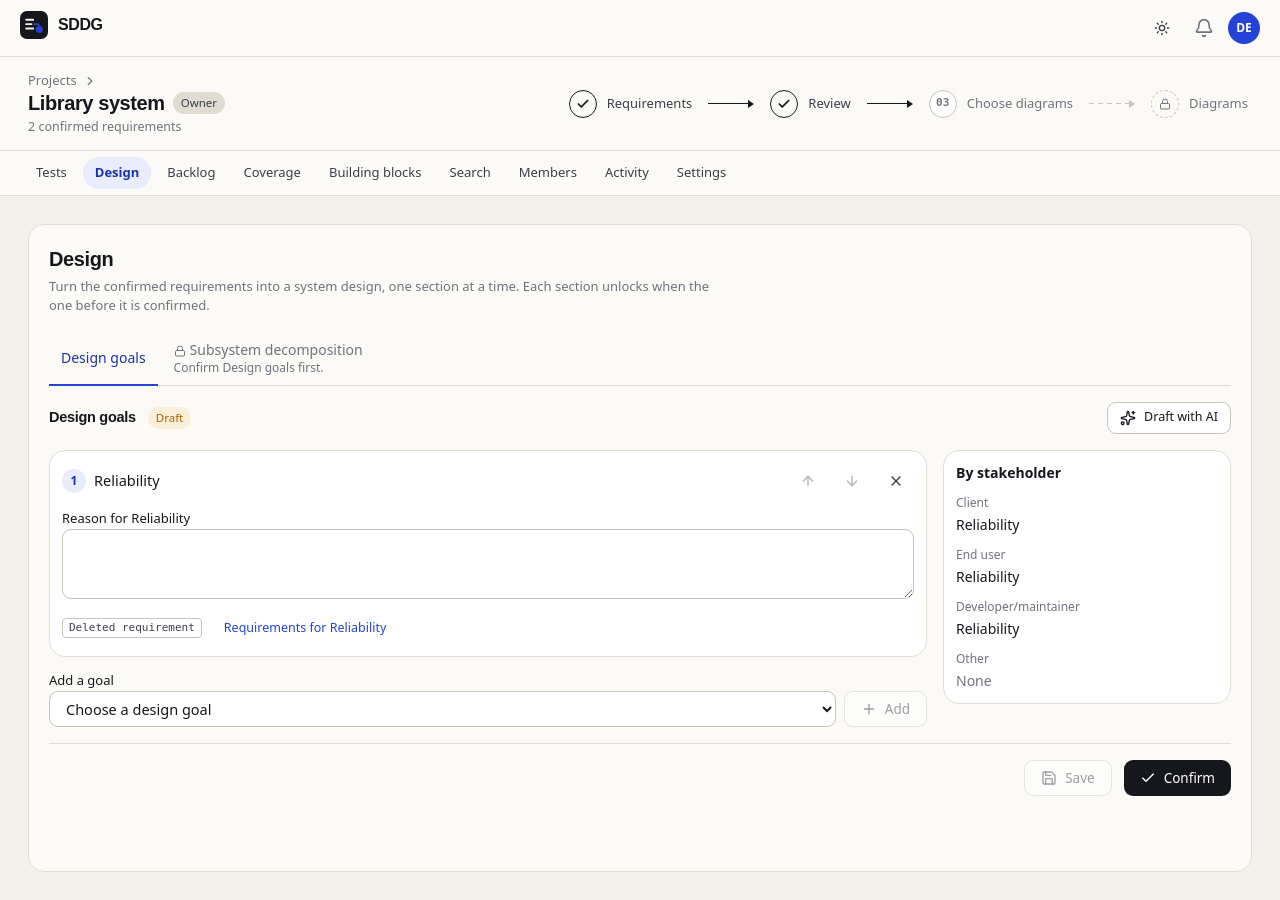
Test: Subsystem decomposition › is locked with the reason until the design goals are confirmed, then opens
The width and height of the screenshot is (1280, 900).
Expected: the tab "Subsystem decomposition Confirm Design goals first." is disabled, [162, 332, 375, 386]
Expected: the text "Confirm Design goals first." is shown, [174, 359, 324, 376]
Step 1. Click the button "Confirm" → (1177,778), box [1124, 760, 1231, 796]
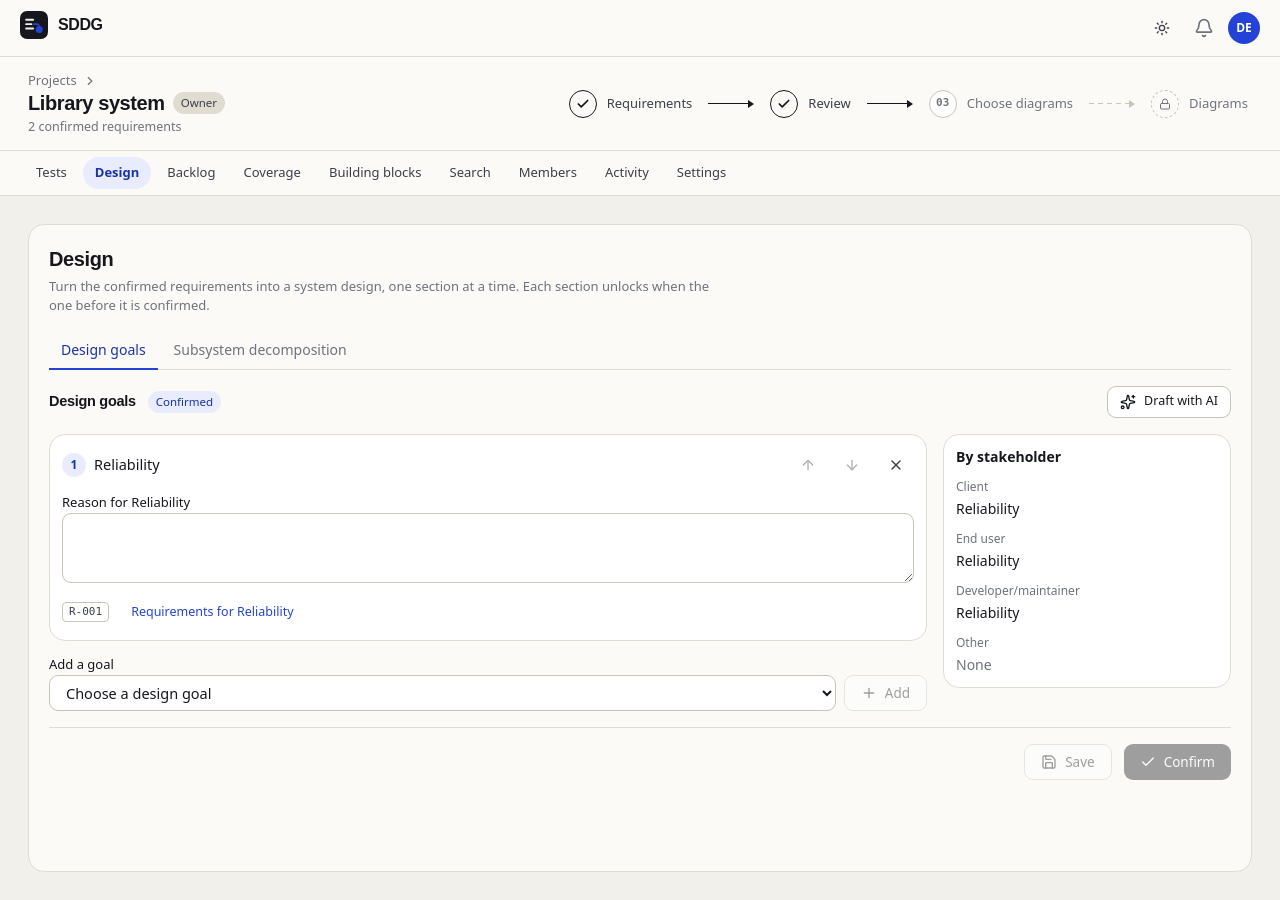
Expected: the tab "Subsystem decomposition" is enabled
Step 2. Click the tab "Subsystem decomposition" → (260,351), box [162, 332, 359, 370]
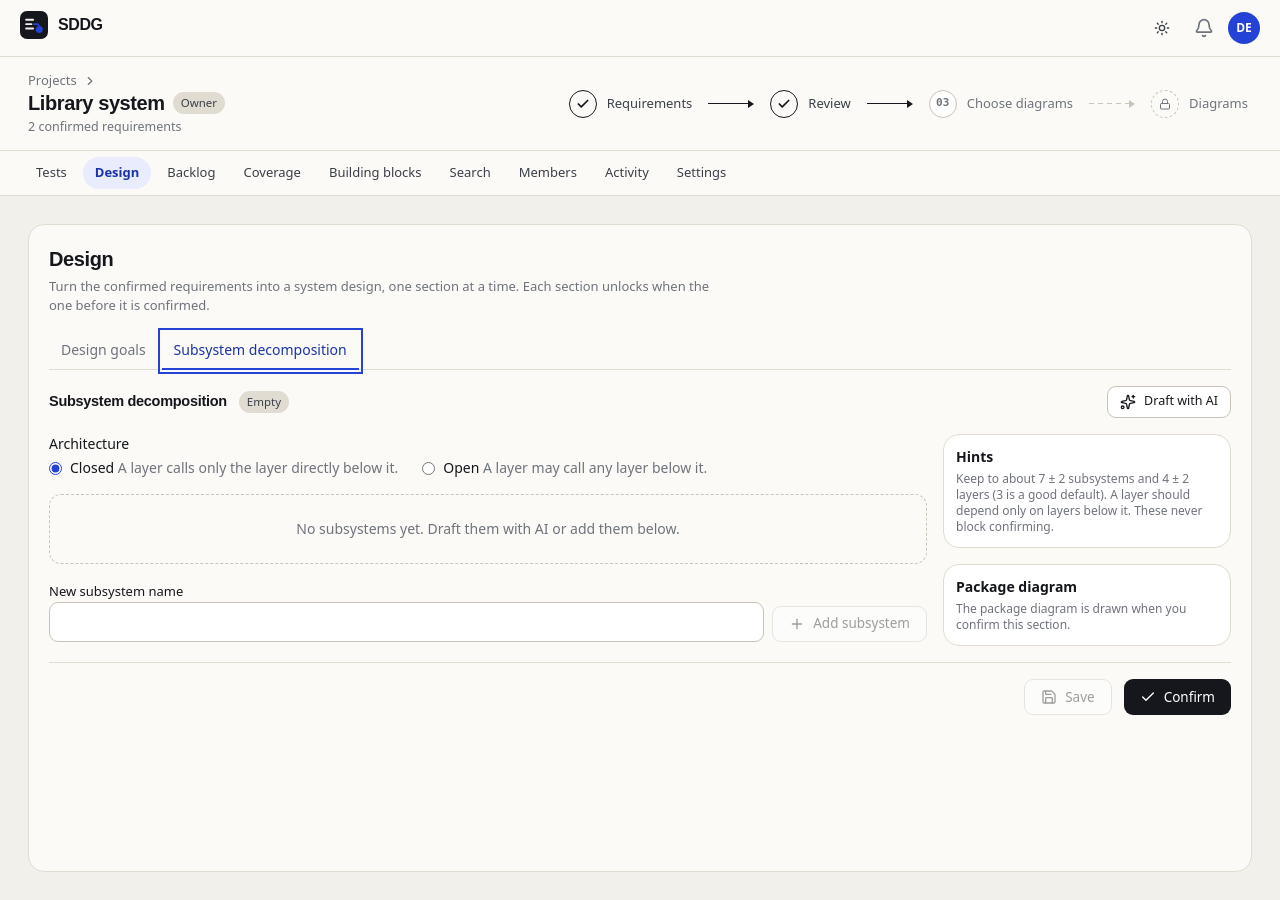
Expected: the text "Empty" is shown, [239, 391, 289, 413]
